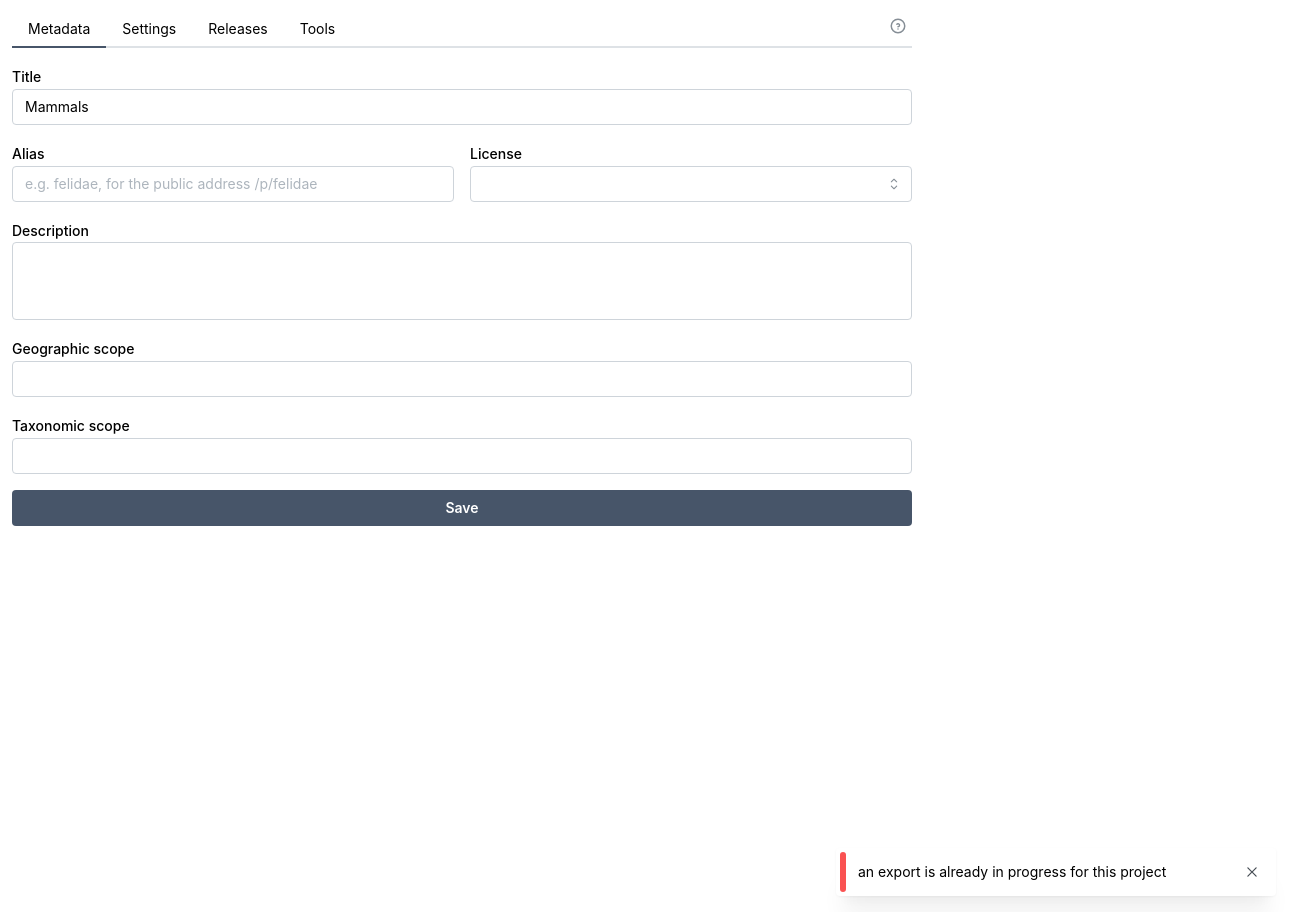
Test: the Tools tab links genera project-wide and shows the outcome counts
expect the field labelled "Title" holds "Mammals": met, box top-left (12, 89), bottom-right (912, 125)
What coordinates should you click on to do the following:
click the tab "Tools"
I would click on:
 (317, 30)
Its box is top-left (284, 12), bottom-right (351, 48).
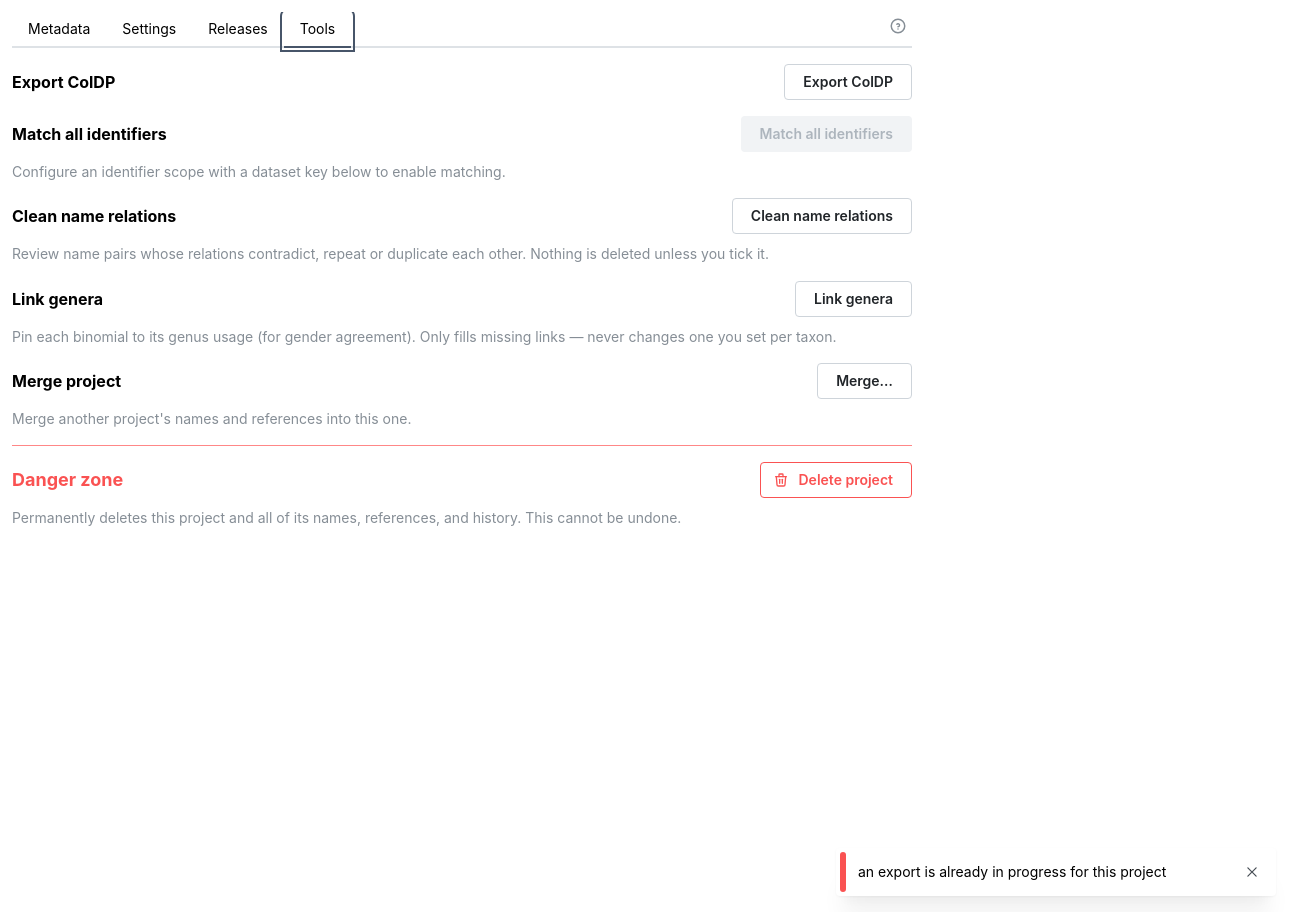
What coordinates should you click on to do the following:
click the button "Link genera"
I would click on:
 (854, 299)
Its box is top-left (795, 281), bottom-right (912, 317).
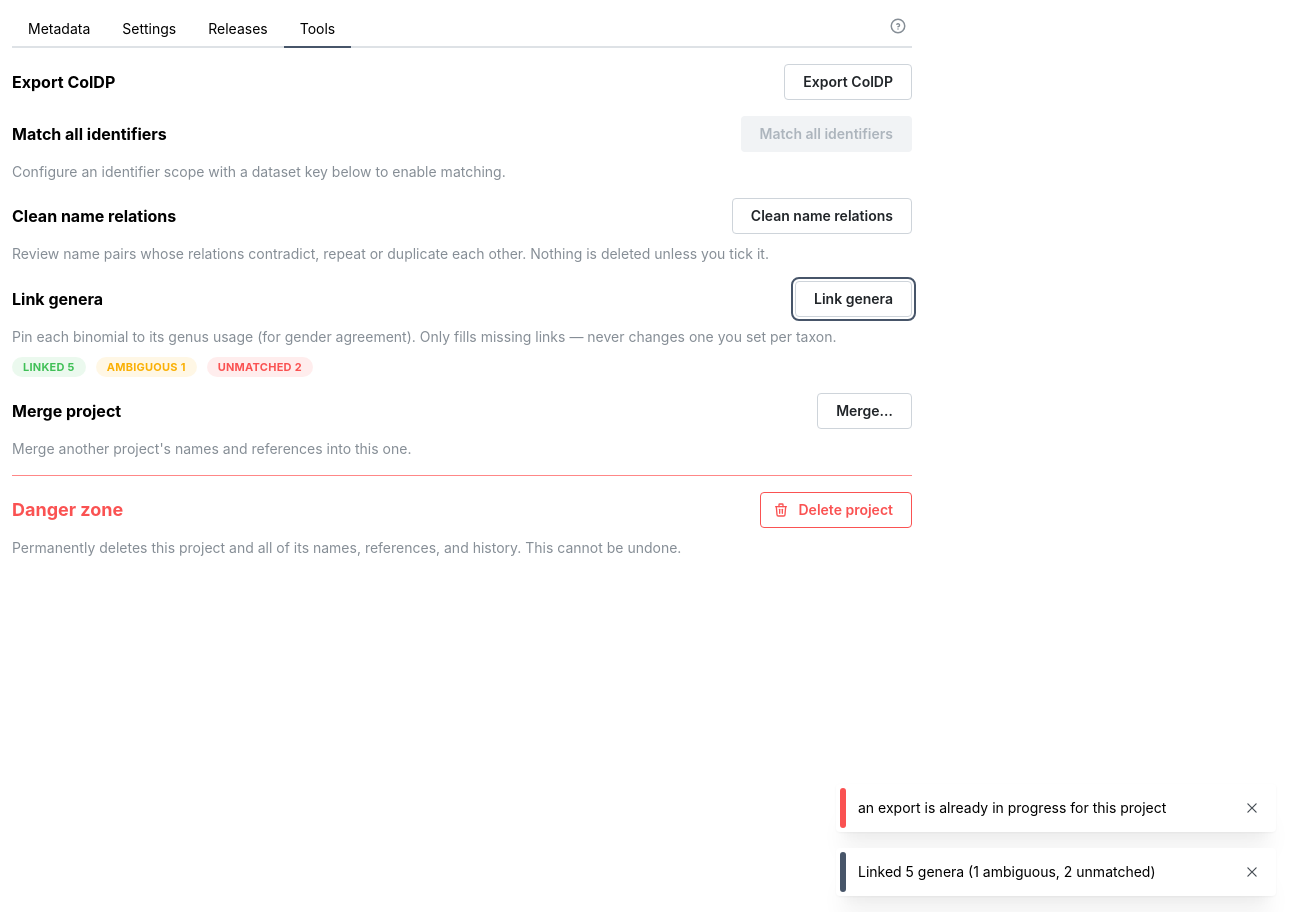
expect the text "linked 5" is shown: met, box top-left (23, 358), bottom-right (75, 376)
expect the text "ambiguous 1" is shown: met, box top-left (107, 358), bottom-right (186, 376)
expect the text "unmatched 2" is shown: met, box top-left (218, 358), bottom-right (302, 376)
